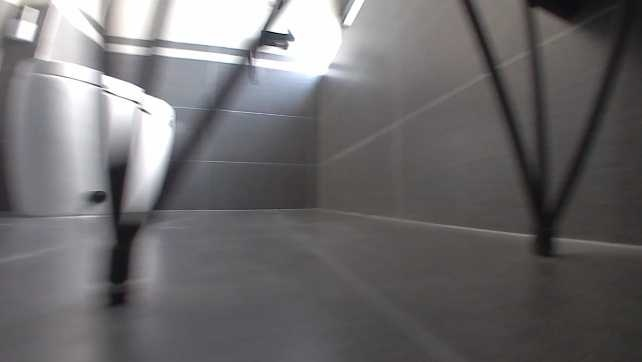toilet: (0, 51, 177, 218)
